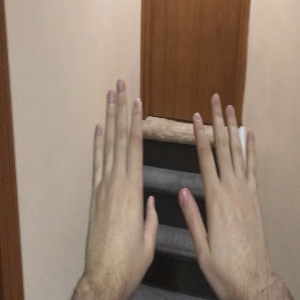hand: (177, 94, 278, 288), (86, 80, 158, 291)
